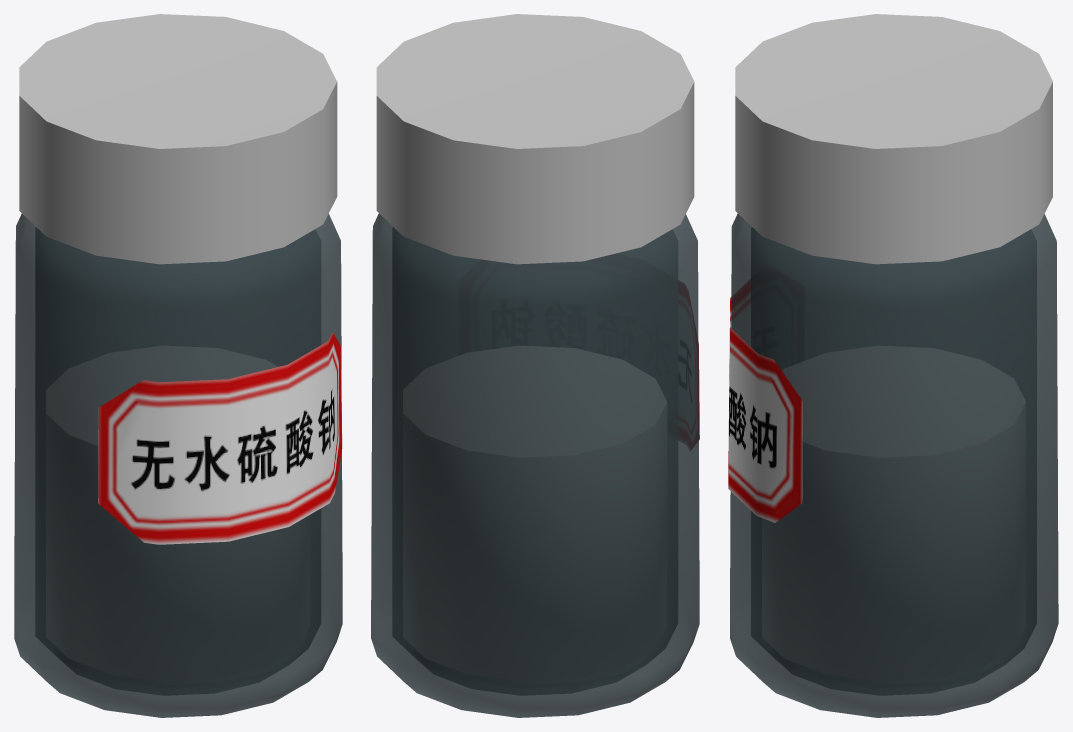
Rendered from SM_无水硫酸钠.FBX.
The picture shows the model from 3 angles, left to right: view 1: azimuth 30°, elevation 25°; view 2: azimuth 150°, elevation 25°; view 3: azimuth 270°, elevation 25°; orthographic projection.
Visible parts, largest first — view 1: SM_无水硫酸钠瓶, SM_无水硫酸钠盖子; view 2: SM_无水硫酸钠瓶, SM_无水硫酸钠盖子; view 3: SM_无水硫酸钠瓶, SM_无水硫酸钠盖子.
Boxes of the visible parts, box(x1,y1,x2,y2) form: SM_无水硫酸钠瓶: box(14, 213, 342, 717); SM_无水硫酸钠盖子: box(19, 14, 337, 264); SM_无水硫酸钠瓶: box(371, 213, 699, 717); SM_无水硫酸钠盖子: box(376, 14, 694, 264); SM_无水硫酸钠瓶: box(728, 213, 1058, 717); SM_无水硫酸钠盖子: box(735, 14, 1052, 264).
Size of the model in its own units: 0.0319 by 0.0318 by 0.0619.
